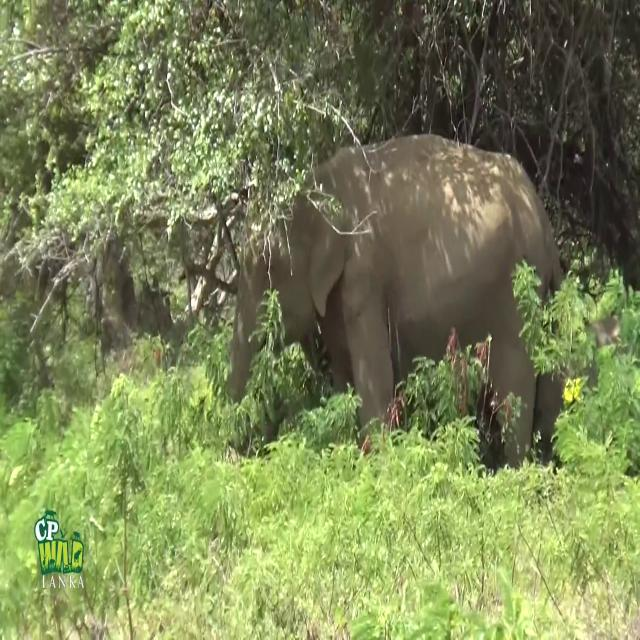Elephant: (226, 131, 566, 473)
